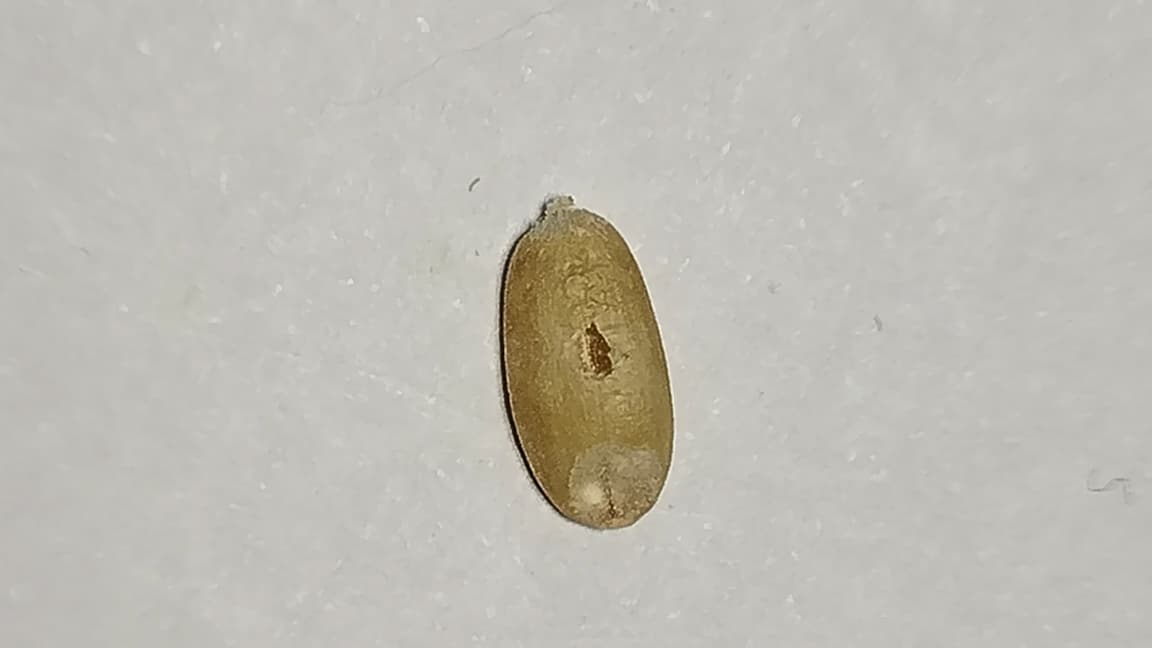damage: (498, 213, 674, 529)
insectdamage: (565, 439, 664, 531), (558, 312, 619, 372)
